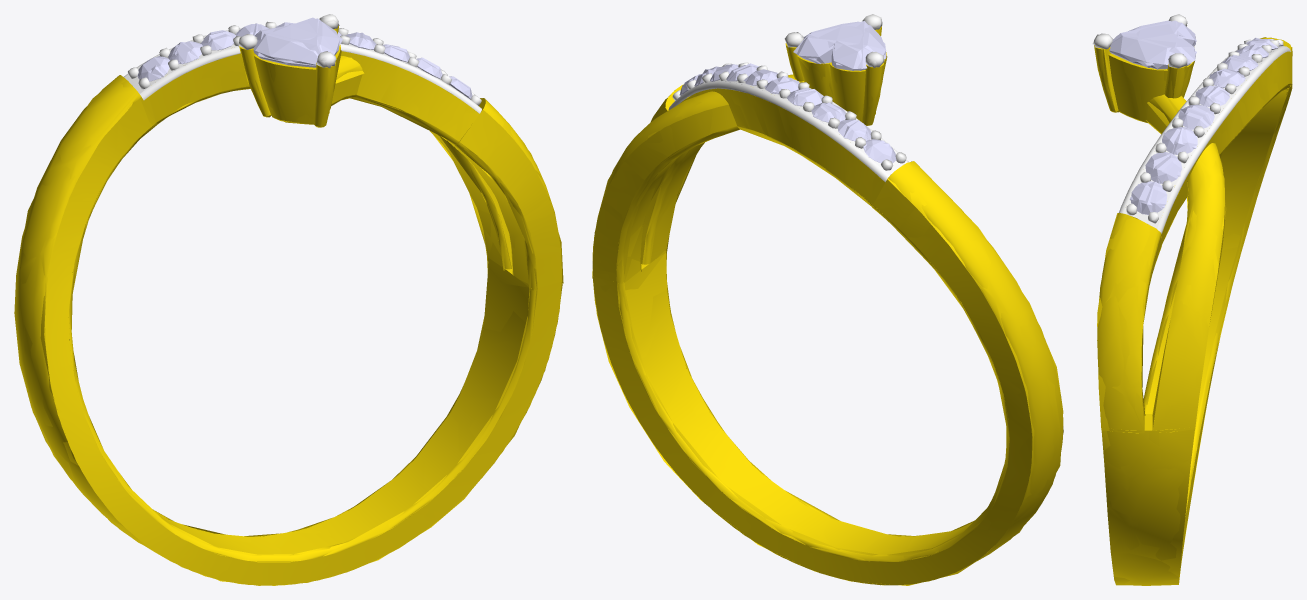
The model's file is DLR-D000679233.glb.
3 renders of one model, left to right at view 1: azimuth 30°, elevation 25°; view 2: azimuth 150°, elevation 25°; view 3: azimuth 270°, elevation 25°, orthographic.
Visible parts, largest first — view 1: highPolyMesh, lowPolyMesh; view 2: highPolyMesh, lowPolyMesh; view 3: highPolyMesh, lowPolyMesh.
Boxes of the visible parts, x1=… form: highPolyMesh: x1=14, y1=14, x2=561, y2=585; lowPolyMesh: x1=19, y1=14, x2=563, y2=585; highPolyMesh: x1=592, y1=14, x2=1063, y2=585; lowPolyMesh: x1=592, y1=14, x2=1063, y2=585; highPolyMesh: x1=1094, y1=14, x2=1292, y2=585; lowPolyMesh: x1=1092, y1=14, x2=1292, y2=585.
Bounding box in the file's own units: 0.0203 × 0.0215 × 0.00741.
